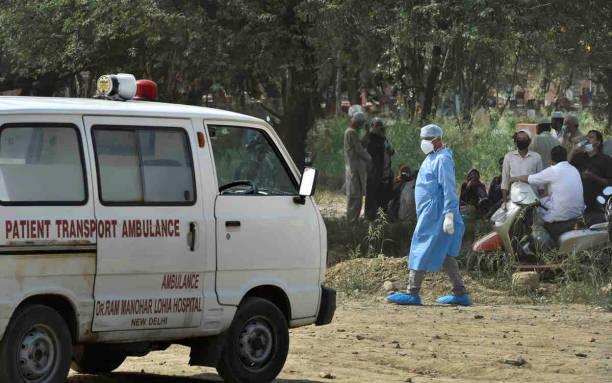ER: (0, 69, 332, 383)
